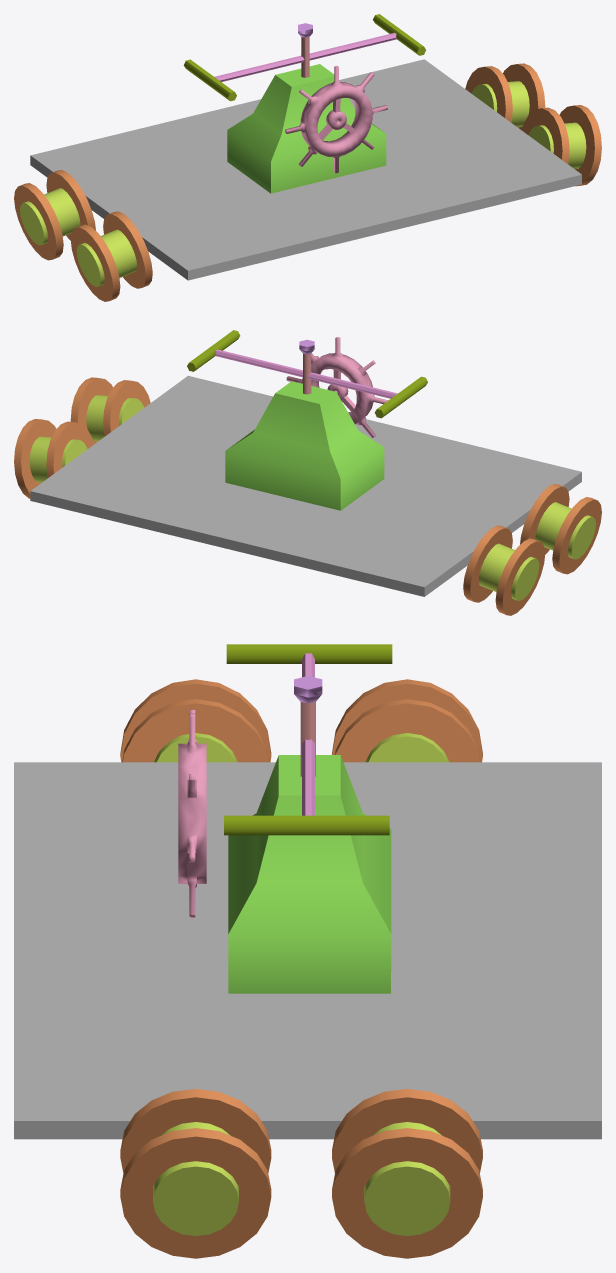
The model's file is carrello.FBX.
3 views of the same model, one above another, from view 1: azimuth 30°, elevation 25°; view 2: azimuth 150°, elevation 25°; view 3: azimuth 270°, elevation 25° (orthographic). The views are drawn at different scales.
Parts seen in each view (by area): view 1: cilindrobase; view 2: cilindrobase; view 3: cilindrobase.
Part boxes in pixels (x1,y1,x2,y2): cilindrobase: (14,14,601,301); cilindrobase: (14,330,601,615); cilindrobase: (14,644,601,1258).
Bounding box in the file's own units: 261 × 95.36 × 142.
